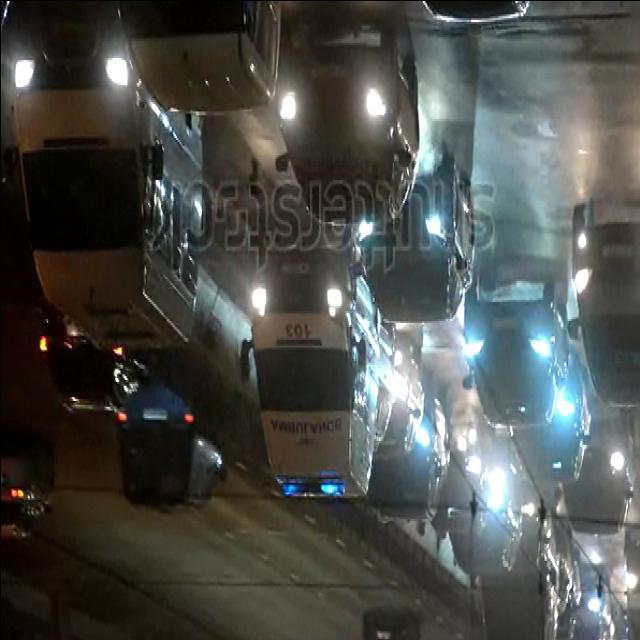ambulance: (238, 232, 380, 498)
